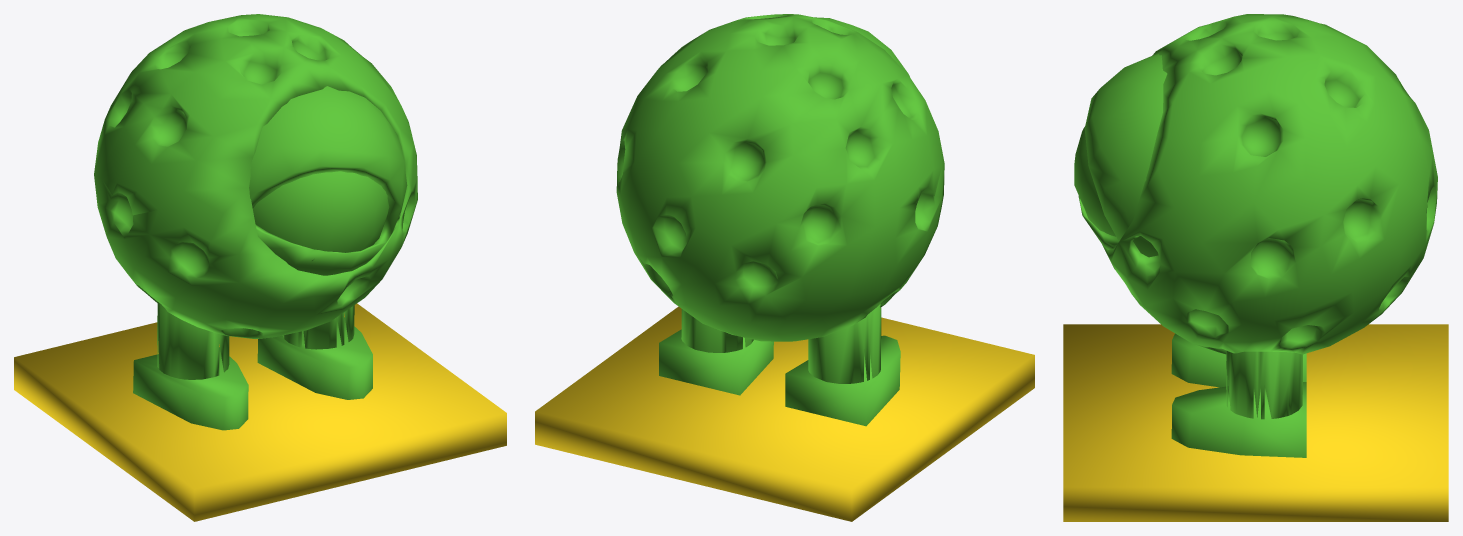
Rendered from adult_8.glb.
3 renders of one model, left to right at view 1: azimuth 30°, elevation 25°; view 2: azimuth 150°, elevation 25°; view 3: azimuth 270°, elevation 25°, orthographic. The views are drawn at different scales.
Visible parts, largest first — view 1: figura, basetta; view 2: figura, basetta; view 3: figura, basetta.
Part boxes in pixels (box(x1,y1,x2,y2)): figura: box(94, 14, 417, 430); basetta: box(14, 303, 506, 521); figura: box(616, 14, 944, 426); basetta: box(535, 306, 1034, 521); figura: box(1074, 14, 1437, 457); basetta: box(1063, 324, 1448, 521).
Bounding box in the file's own units: 0.02 × 0.0235 × 0.02.
